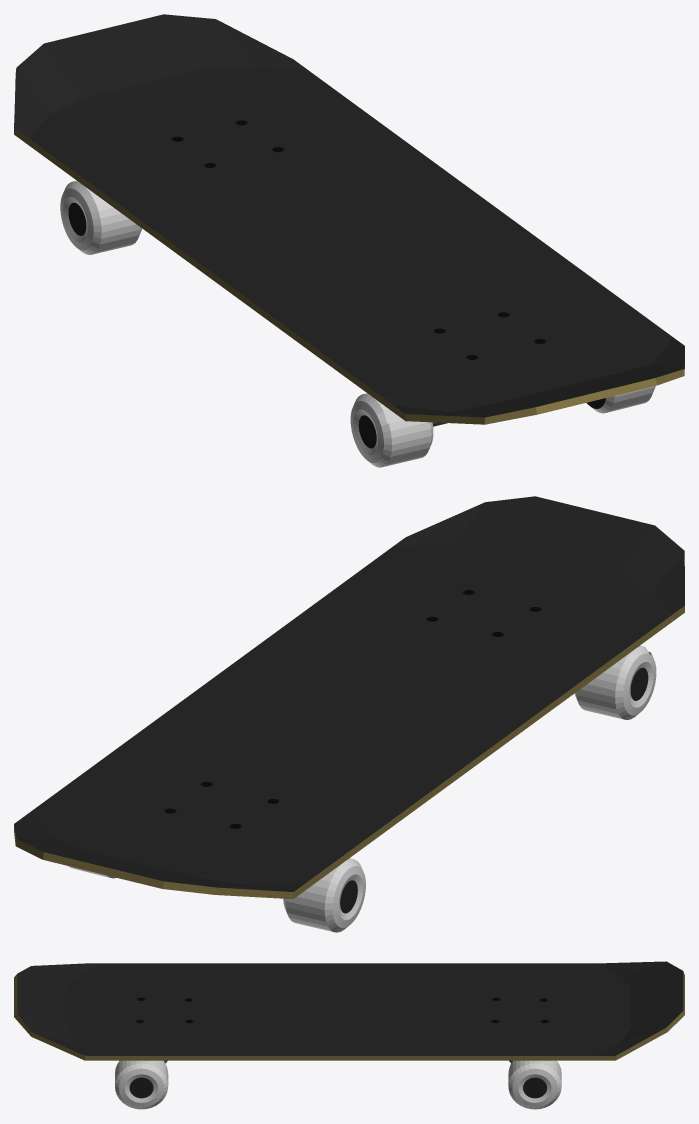
File: Skateboard_3d.fbx
The picture shows the model from 3 angles, top to bottom: view 1: azimuth 30°, elevation 25°; view 2: azimuth 150°, elevation 25°; view 3: azimuth 270°, elevation 25°; orthographic projection. The views are drawn at different scales.
Parts seen in each view (by area): view 1: Skateboard_World; view 2: Skateboard_World; view 3: Skateboard_World.
Part boxes in pixels (box(x1,y1,x2,y2)): Skateboard_World: box(14, 14, 684, 467); Skateboard_World: box(14, 496, 684, 932); Skateboard_World: box(14, 961, 684, 1109).
Size of the model in its own units: 0.1746 by 0.0665 by 0.5357.
